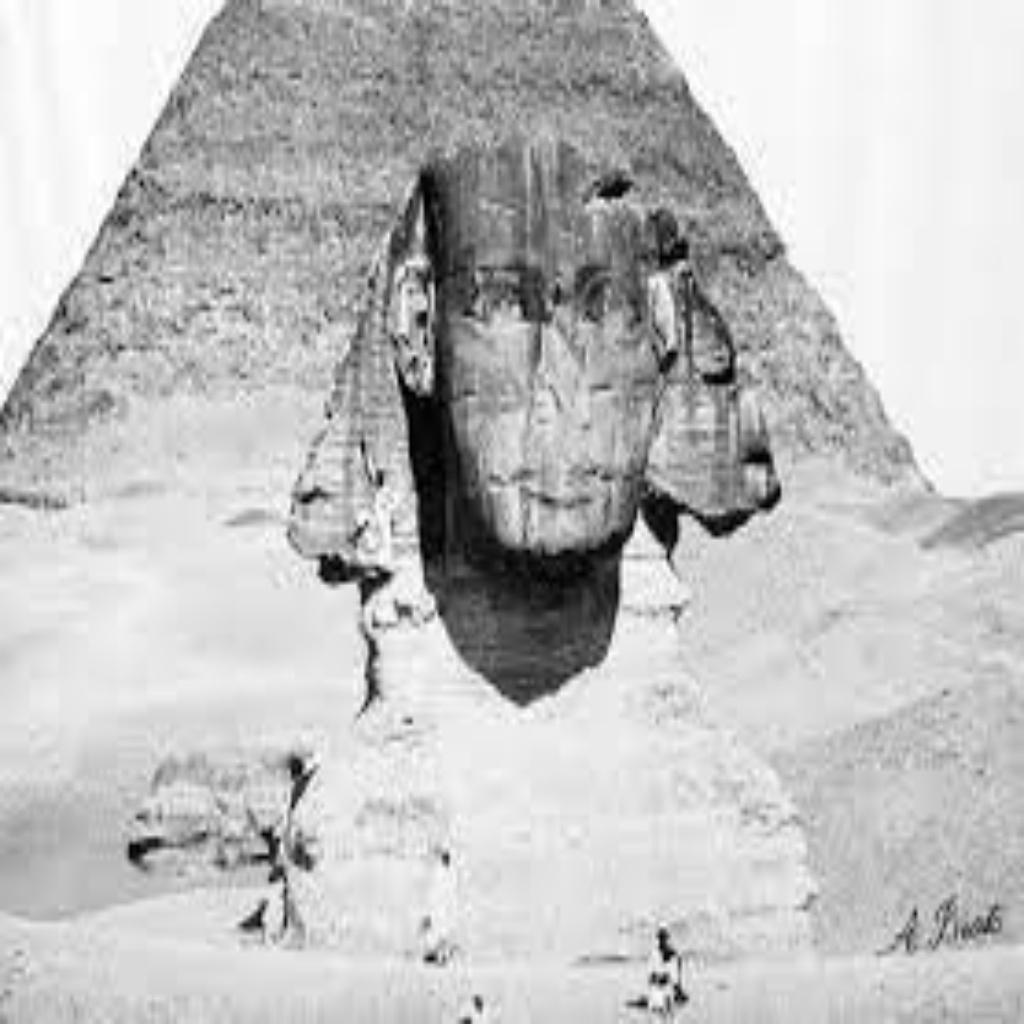Sphinx: (280, 124, 781, 718)
